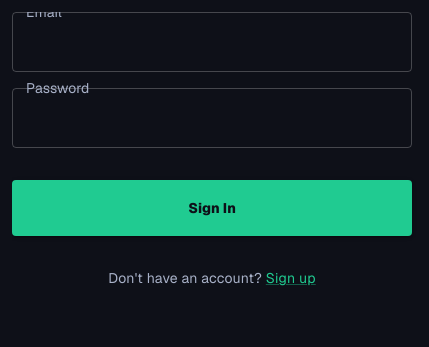
SignInForm › renders the signIn error message when result.error is set
Type "a@b.com" into the field labelled "Email" at point(212, 42), box [12,12,412,72]
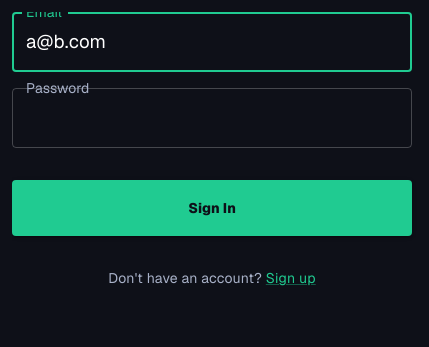
Type "pw" into the password field labelled "Password" at point(212, 118), box [12,88,412,148]
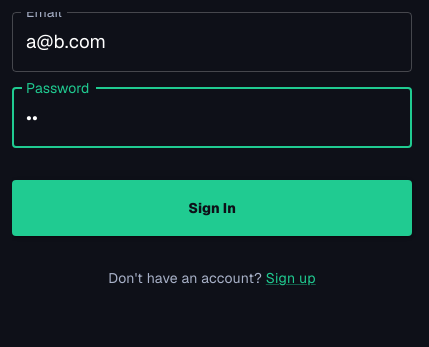
Click the button "Sign In" at point(212, 208), box [12,180,412,236]
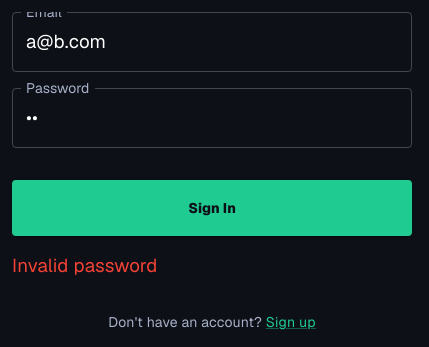
Check: the text with test id "sign-in-error" reads "Invalid password", box [12,253,158,278]
